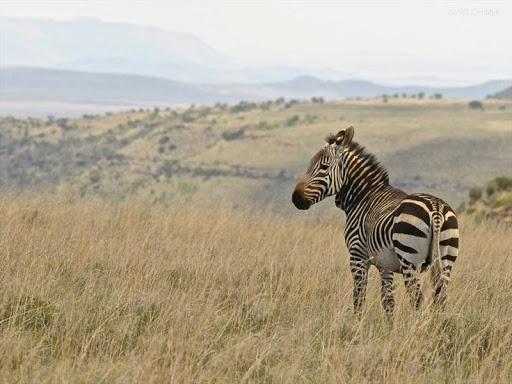zebra: (376, 218, 512, 384)
